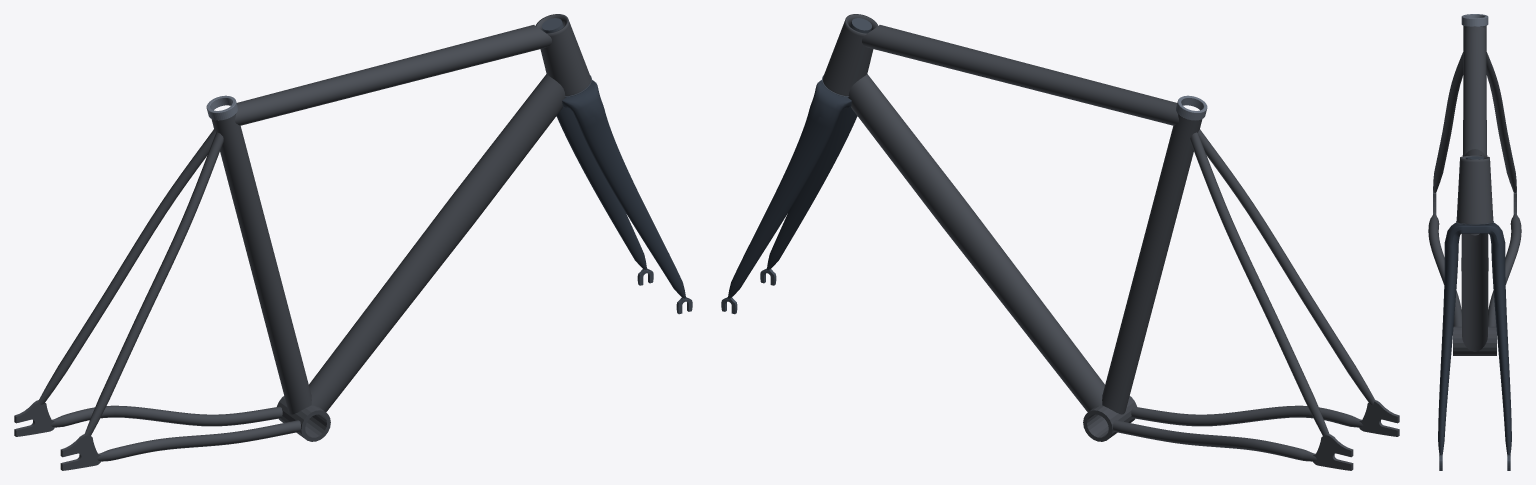
File: skream-magnum-xs.glb
The picture shows the model from 3 angles, left to right: view 1: azimuth 30°, elevation 25°; view 2: azimuth 150°, elevation 25°; view 3: azimuth 270°, elevation 25°; orthographic projection. The views are drawn at different scales.
Visible parts, largest first — view 1: paint_down, paint_seat, paint_top, fork_blade_1, paint_seatstay_1, paint_seatstay_-1, fork_blade_-1, paint_chainstay_-1, paint_chainstay_1, paint_head, paint_bottom_bracket, fork_crown (+2 smaller); view 2: paint_down, paint_seat, paint_top, fork_blade_-1, paint_seatstay_-1, paint_seatstay_1, fork_blade_1, paint_chainstay_1, paint_chainstay_-1, paint_head, paint_bottom_bracket, fork_crown (+2 smaller); view 3: paint_down, paint_top, paint_head, fork_blade_1, fork_blade_-1, paint_seatstay_1, paint_seatstay_-1, paint_chainstay_-1, paint_chainstay_1, fork_crown, paint_bottom_bracket, seat_collar (+1 smaller).
Part boxes in pixels (bbox=[...]): paint_down: bbox=[309, 74, 565, 412]; paint_seat: bbox=[211, 113, 311, 414]; paint_top: bbox=[235, 25, 551, 125]; fork_blade_1: bbox=[577, 108, 685, 298]; paint_seatstay_1: bbox=[84, 132, 223, 435]; paint_seatstay_-1: bbox=[38, 129, 215, 404]; fork_blade_-1: bbox=[556, 107, 646, 269]; paint_chainstay_-1: bbox=[51, 405, 282, 427]; paint_chainstay_1: bbox=[97, 420, 300, 461]; paint_head: bbox=[535, 14, 590, 96]; paint_bottom_bracket: bbox=[277, 396, 330, 441]; fork_crown: bbox=[562, 80, 603, 121]; paint_down: bbox=[848, 74, 1104, 412]; paint_seat: bbox=[1102, 113, 1202, 414]; paint_top: bbox=[862, 25, 1178, 125]; fork_blade_-1: bbox=[728, 108, 836, 298]; paint_seatstay_-1: bbox=[1190, 132, 1329, 435]; paint_seatstay_1: bbox=[1198, 129, 1375, 404]; fork_blade_1: bbox=[767, 107, 857, 269]; paint_chainstay_1: bbox=[1131, 405, 1363, 427]; paint_chainstay_-1: bbox=[1113, 420, 1316, 461]; paint_head: bbox=[823, 14, 878, 96]; paint_bottom_bracket: bbox=[1083, 396, 1136, 441]; fork_crown: bbox=[810, 80, 851, 121]; paint_down: bbox=[1461, 233, 1488, 351]; paint_top: bbox=[1462, 26, 1487, 156]; paint_head: bbox=[1456, 155, 1493, 224]; fork_blade_1: bbox=[1438, 243, 1458, 455]; fork_blade_-1: bbox=[1491, 243, 1511, 455]; paint_seatstay_1: bbox=[1433, 52, 1463, 192]; paint_seatstay_-1: bbox=[1486, 52, 1516, 192]; paint_chainstay_-1: bbox=[1488, 213, 1521, 326]; paint_chainstay_1: bbox=[1428, 213, 1461, 326]; fork_crown: bbox=[1444, 222, 1505, 244]; paint_bottom_bracket: bbox=[1453, 326, 1496, 355]; seat_collar: bbox=[1461, 14, 1488, 26].
Size of the model in its own units: 0.9872 by 0.5238 by 0.1441.
